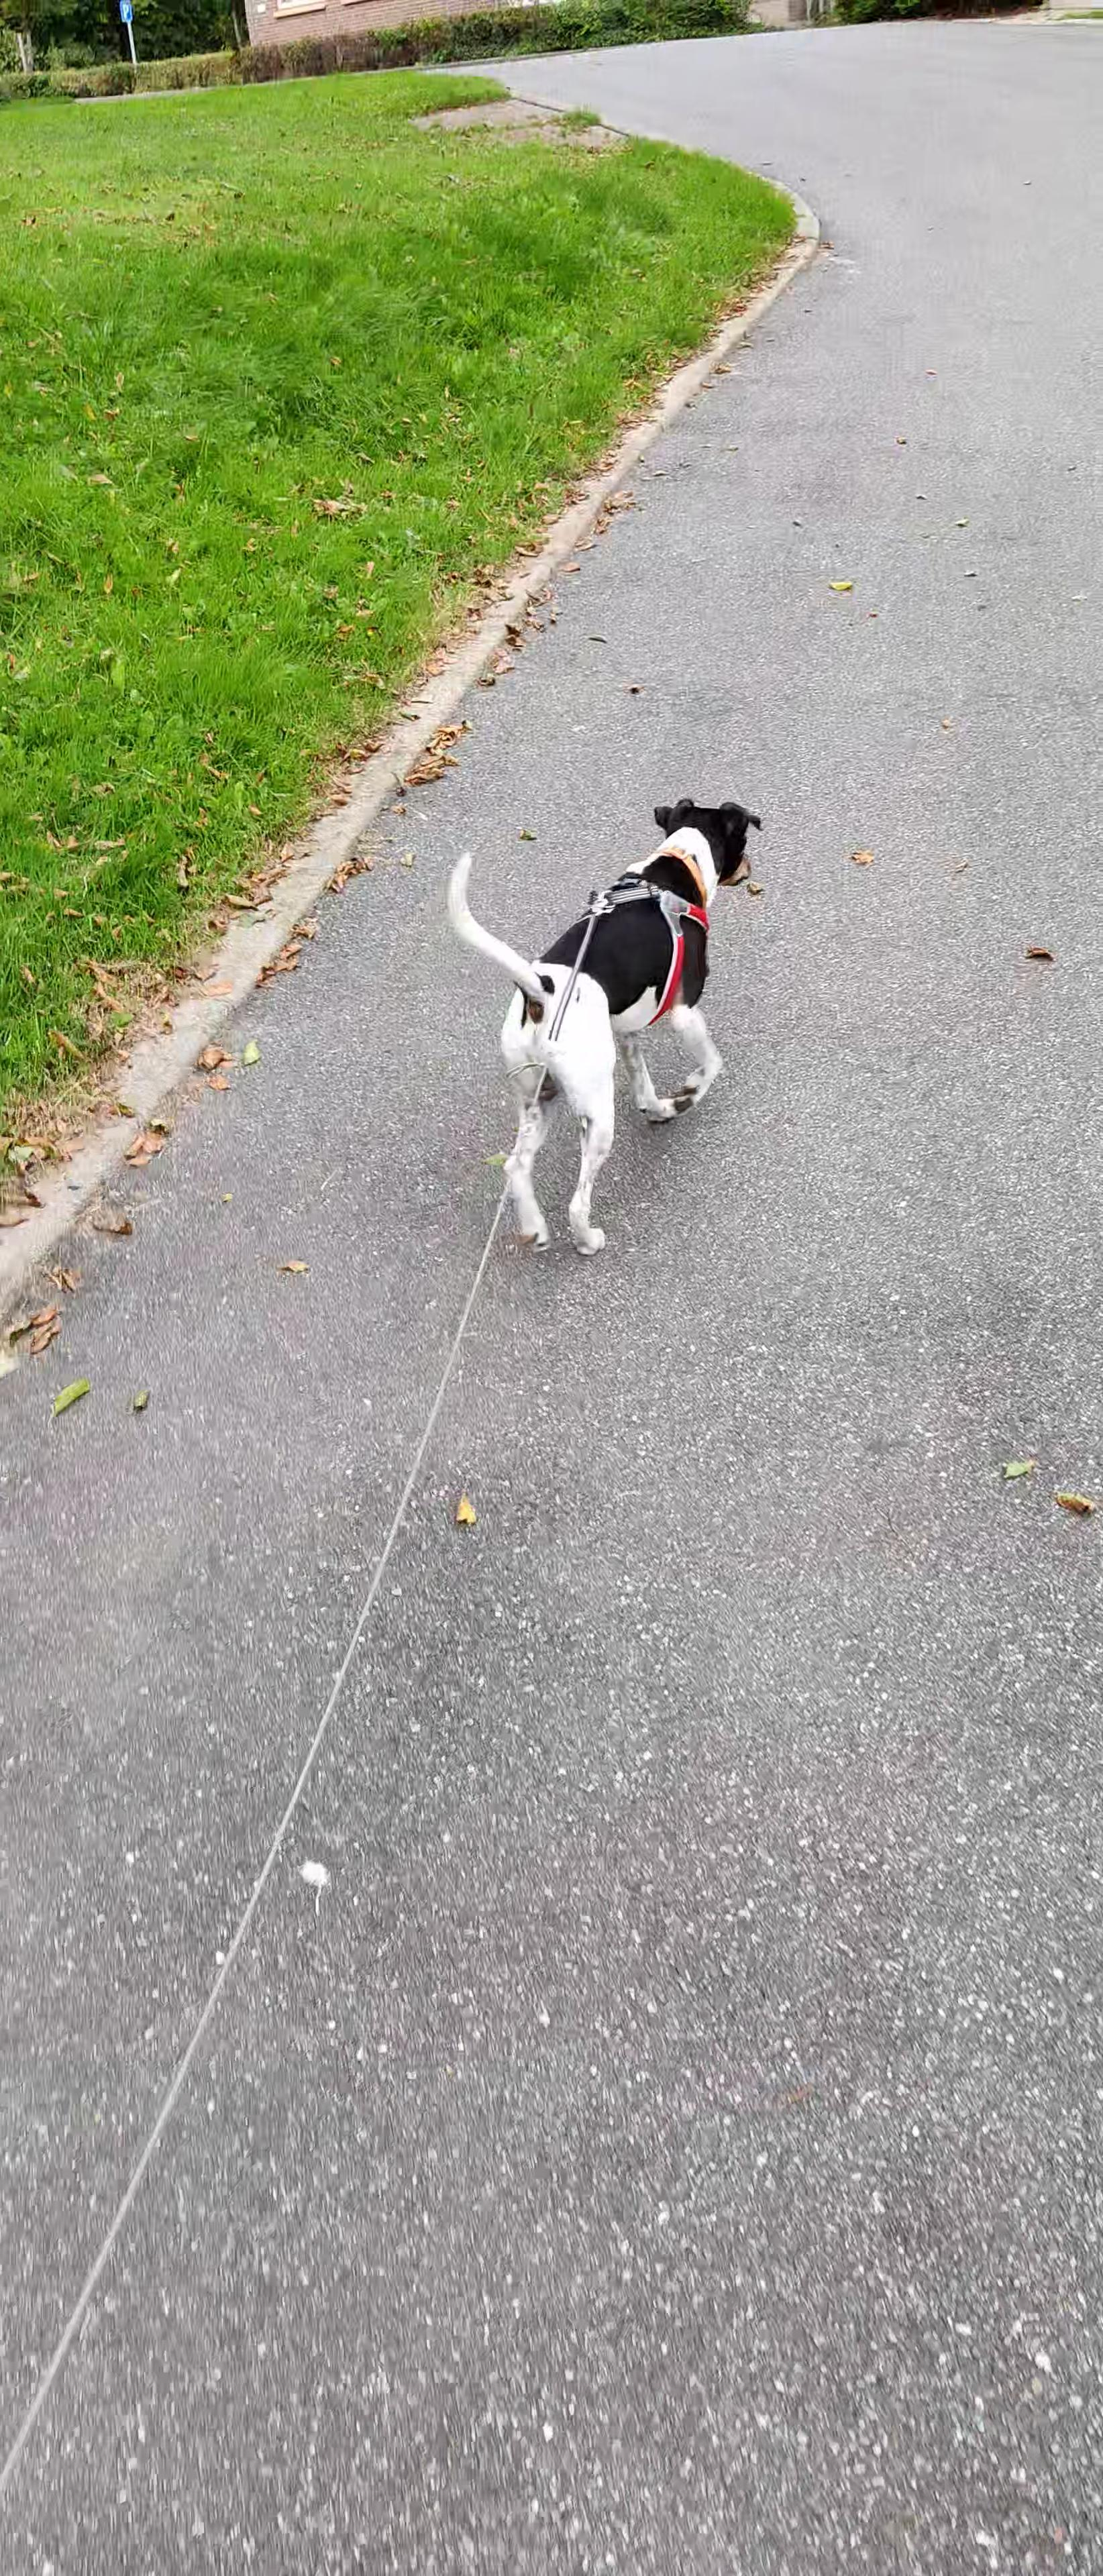Dog: (436, 795, 764, 1262)
